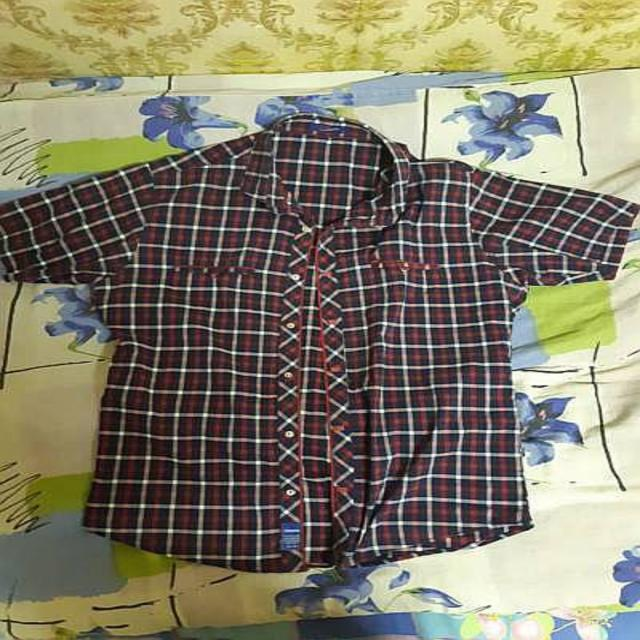SHIRT: (5, 104, 640, 577)
